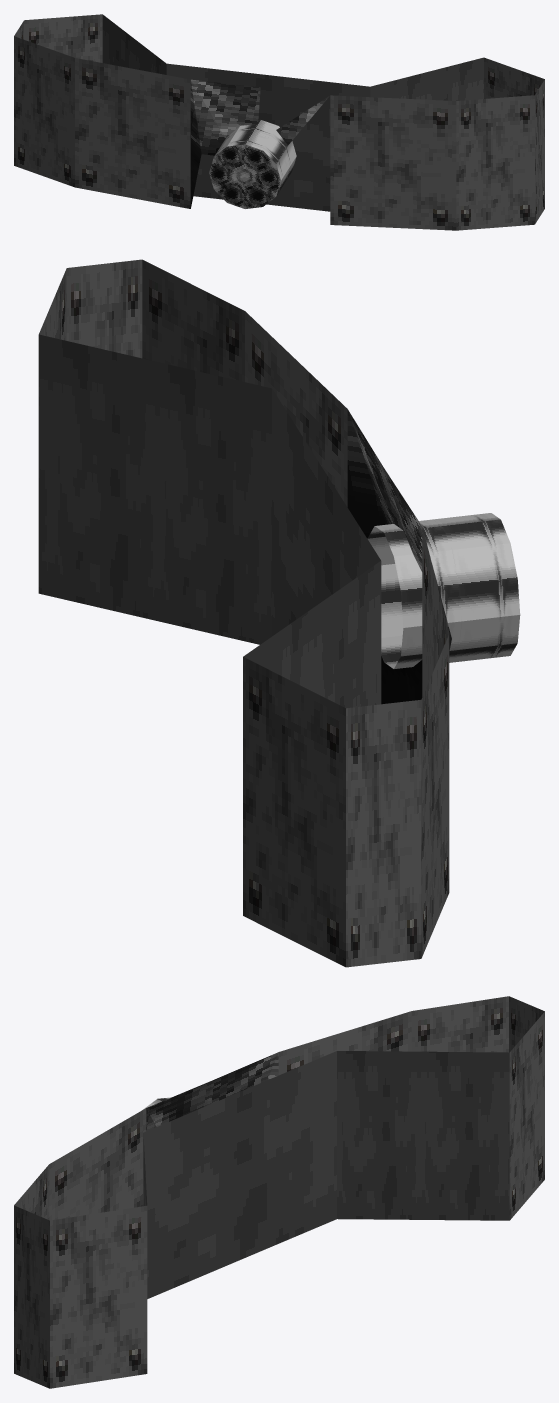
Rendered from gun_turret.glb.
3 views of the same model, one above another, from view 1: azimuth 30°, elevation 25°; view 2: azimuth 150°, elevation 25°; view 3: azimuth 270°, elevation 25° (orthographic). The views are drawn at different scales.
Parts seen in each view (by area): view 1: Object; view 2: Object; view 3: Object.
Part boxes in pixels (x1,y1,x2,y2): Object: [14, 14, 544, 230]; Object: [38, 259, 520, 967]; Object: [14, 996, 544, 1388].
Bounding box in the file's own units: 3.25 × 1.14 × 3.25.
16 materials, 16 textured.
